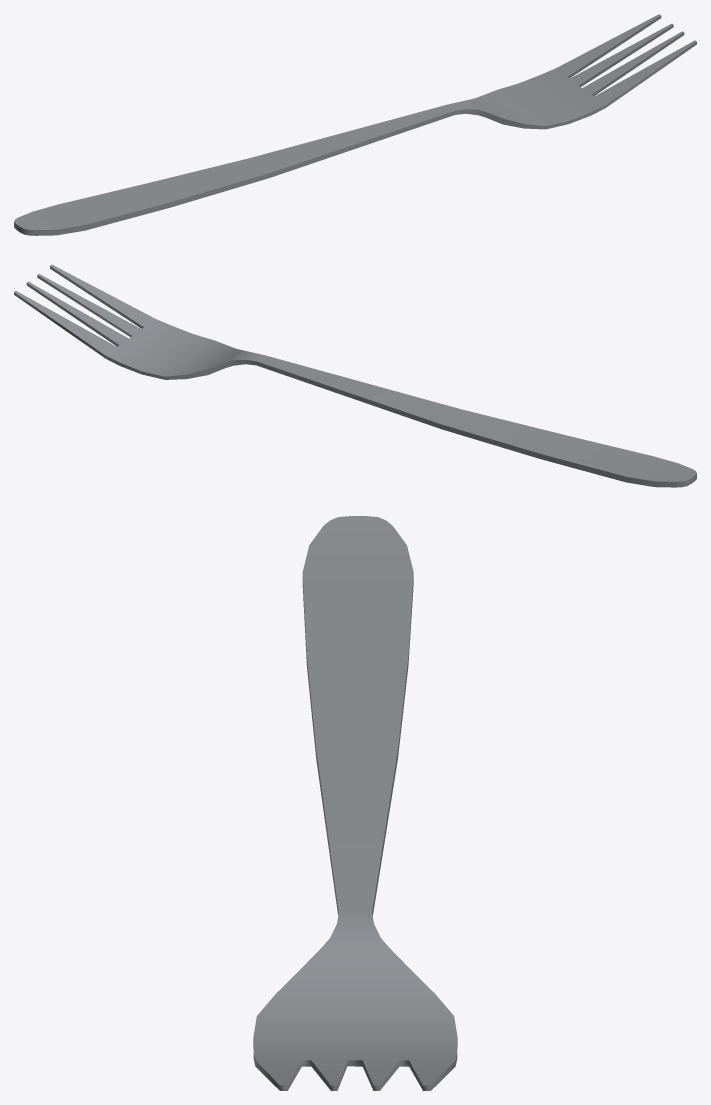
File: Fork01.FBX
3 views of the same model, one above another, from view 1: azimuth 30°, elevation 25°; view 2: azimuth 150°, elevation 25°; view 3: azimuth 270°, elevation 25° (orthographic). The views are drawn at different scales.
Parts seen in each view (by area): view 1: Fork01_LOD0; view 2: Fork01_LOD0; view 3: Fork01_LOD0.
Part boxes in pixels (left/top/right/bottom): Fork01_LOD0: left=14, top=14, right=696, bottom=235; Fork01_LOD0: left=14, top=264, right=696, bottom=487; Fork01_LOD0: left=253, top=516, right=457, bottom=1090.
Bounding box in the file's own units: 20.82 × 2.79 × 1.36.
